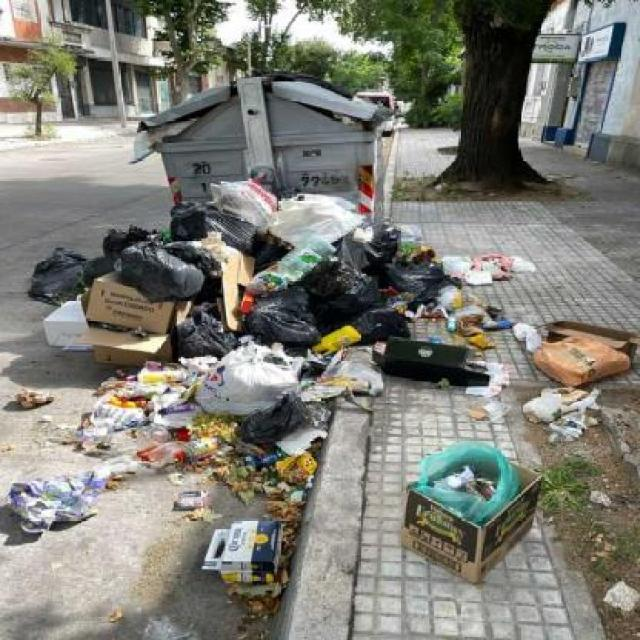garbage: (0, 181, 632, 627)
